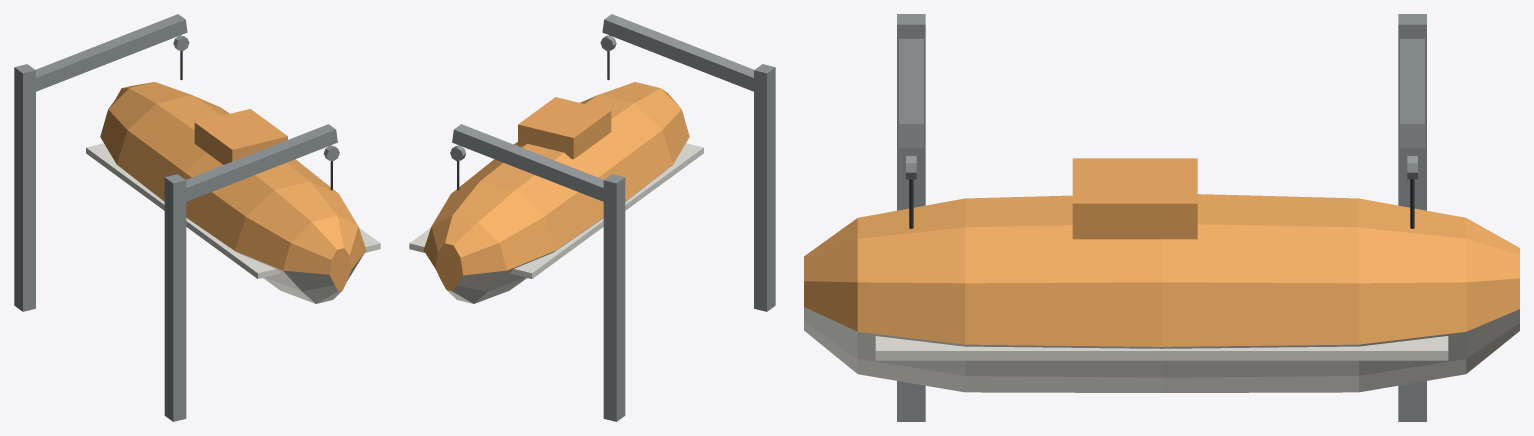
The model's file is ext_lifeboat_davit.fbx.
3 views of the same model, side by side, from view 1: azimuth 30°, elevation 25°; view 2: azimuth 150°, elevation 25°; view 3: azimuth 270°, elevation 25° (orthographic). The views are drawn at different scales.
Parts seen in each view (by area): view 1: ext_lifeboat_davit; view 2: ext_lifeboat_davit; view 3: ext_lifeboat_davit.
Boxes of the visible parts, x1,y1,x2,y2 form: ext_lifeboat_davit: (14,14,380,421); ext_lifeboat_davit: (409,14,775,421); ext_lifeboat_davit: (804,14,1519,421).
Bounding box in the file's own units: 2.16 × 2.59 × 4.
